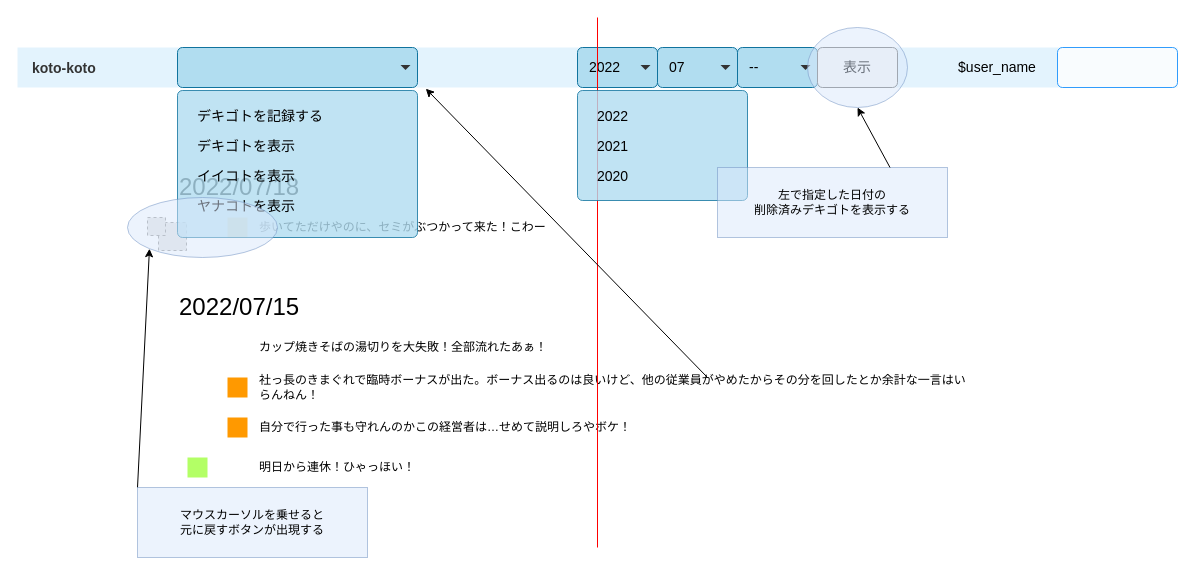
The diagram is 1195 pixels wide and 575 high, and some of its shapes have lost their labels. Grey dashed boxes stand in for pictures. Here are the shapes that lost their labels. From the top down, the box of each, then its label:
(176, 46, 418, 88): 削除済みデキゴト
(1056, 46, 1178, 88): ログアウト
